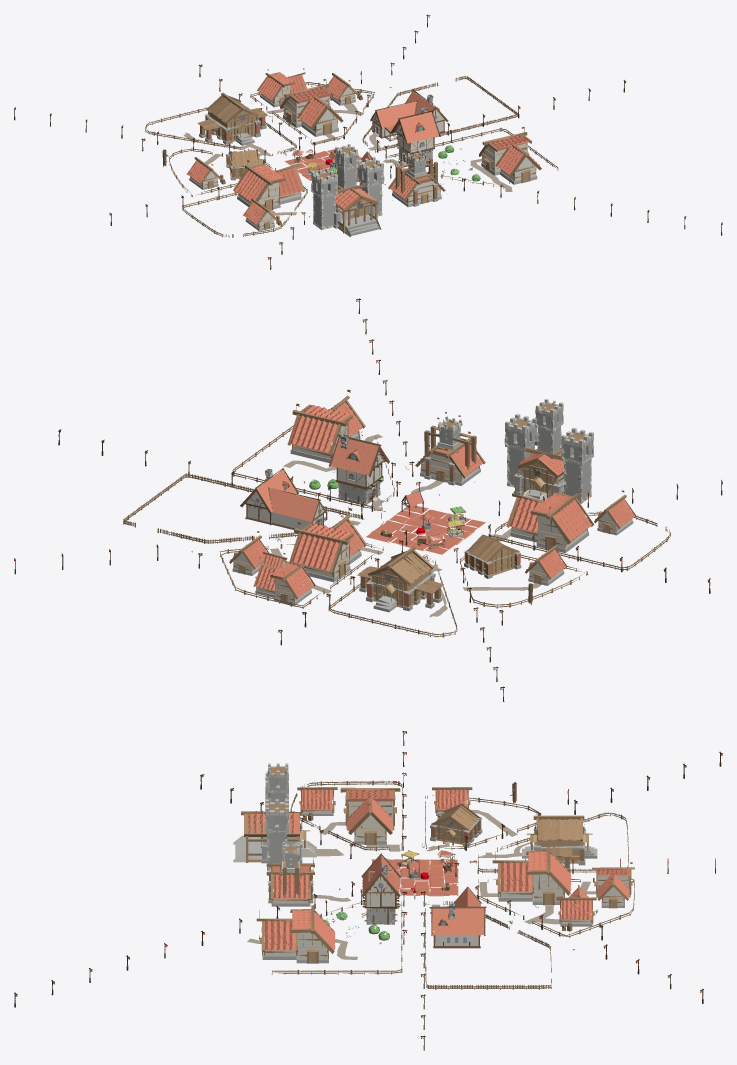
The model's file is chunk_1_1_lod1.glb.
The picture shows the model from 3 angles, top to bottom: view 1: azimuth 30°, elevation 25°; view 2: azimuth 150°, elevation 25°; view 3: azimuth 270°, elevation 25°; orthographic projection. The views are drawn at different scales.
Parts seen in each view (by area): view 1: Batched_chunk_1_1_lod1; view 2: Batched_chunk_1_1_lod1; view 3: Batched_chunk_1_1_lod1.
Boxes of the visible parts, x1=… form: Batched_chunk_1_1_lod1: x1=14, y1=14, x2=722, y2=269; Batched_chunk_1_1_lod1: x1=14, y1=298, x2=722, y2=701; Batched_chunk_1_1_lod1: x1=14, y1=731, x2=722, y2=1050.
Bounding box in the file's own units: 173 × 26.45 × 170.
